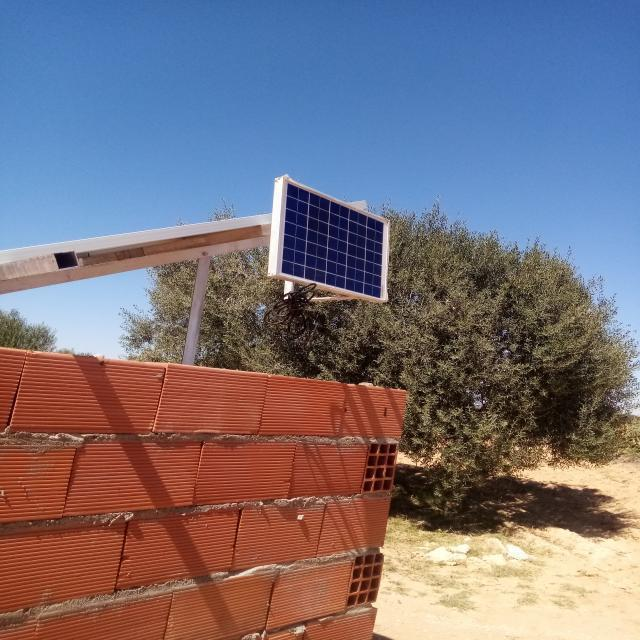Normal Solar Panel: (277, 178, 390, 301)
